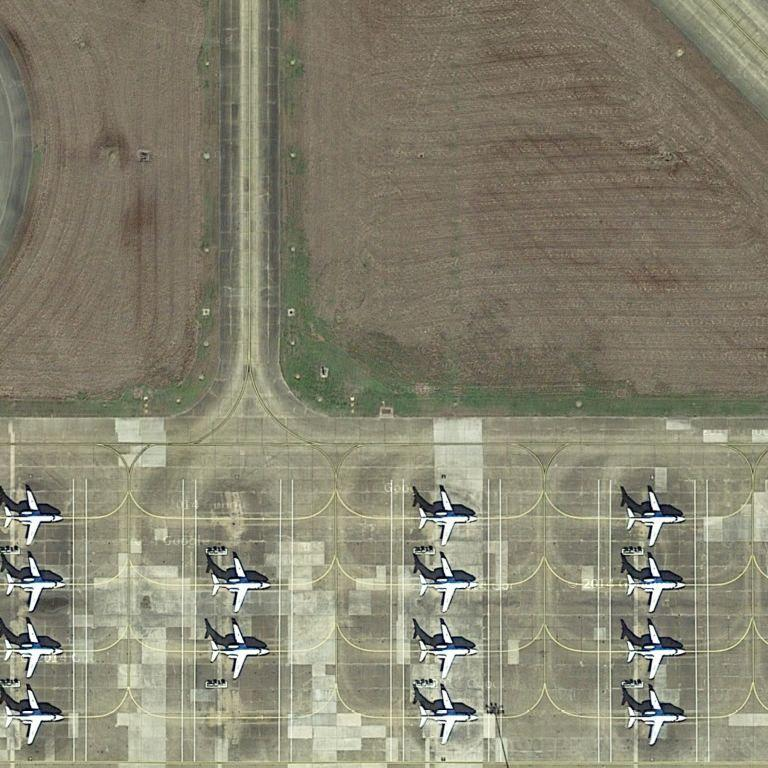plane: (413, 688, 485, 749), (621, 690, 692, 748), (205, 622, 273, 681), (413, 624, 483, 681), (6, 684, 67, 748), (413, 487, 477, 548), (415, 558, 485, 613), (4, 620, 67, 681), (4, 488, 69, 546), (5, 556, 70, 614), (621, 557, 690, 611), (624, 623, 686, 679), (622, 491, 687, 544), (210, 555, 270, 611)
